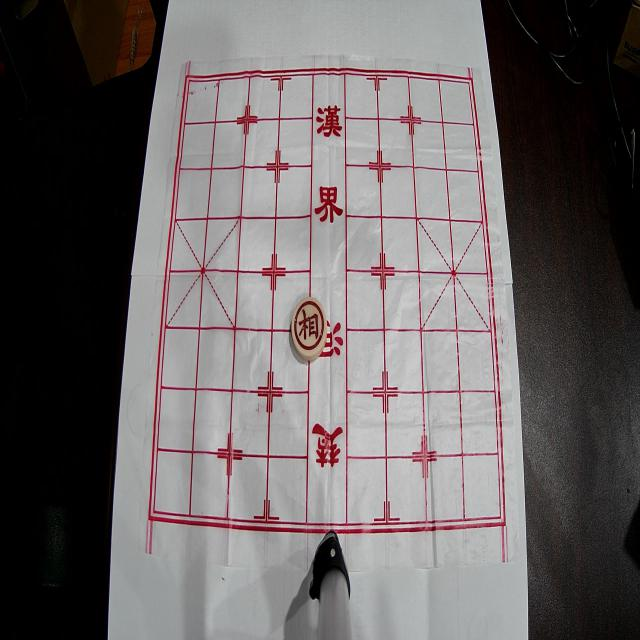red-elephant: (291, 297, 327, 360)
